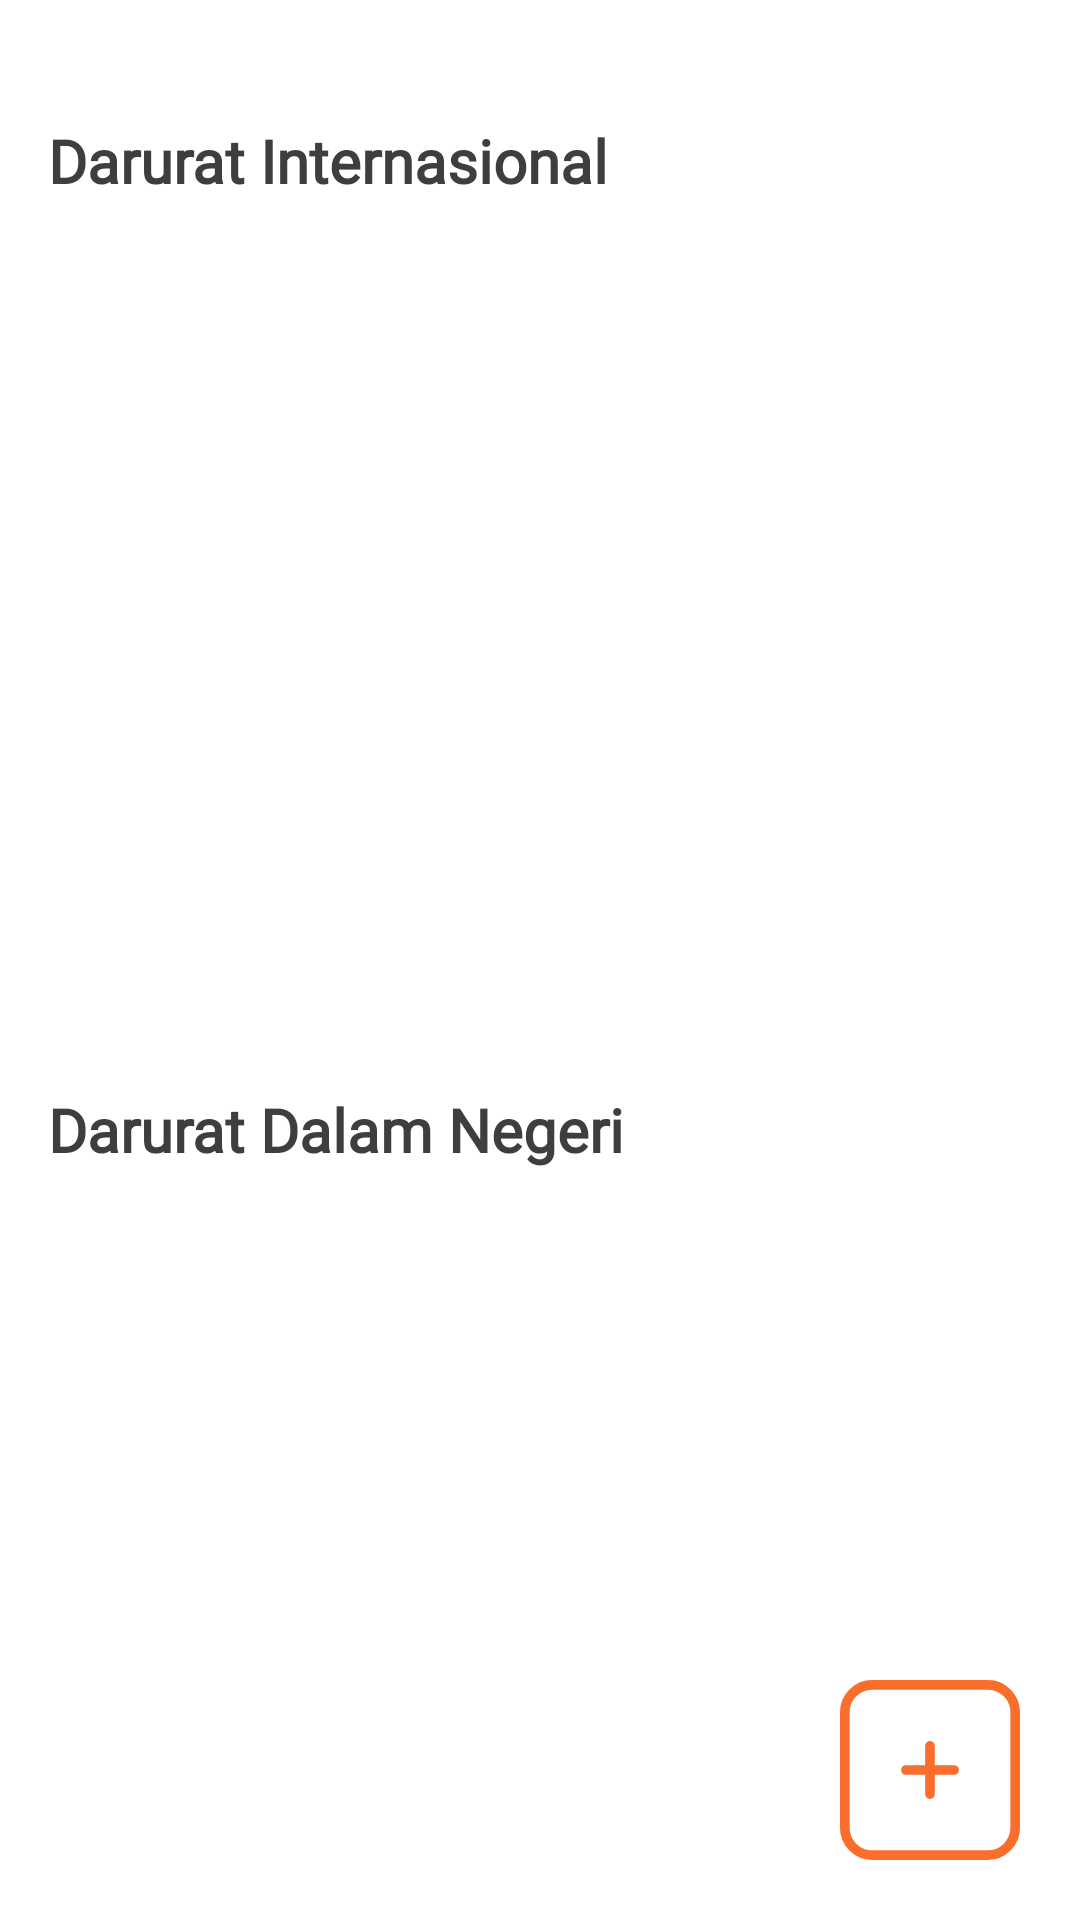

Named icons in this screenshot (1080×1920) and their centers, (x=x, y=y):
Tambah donasi: (x=930, y=1770)
